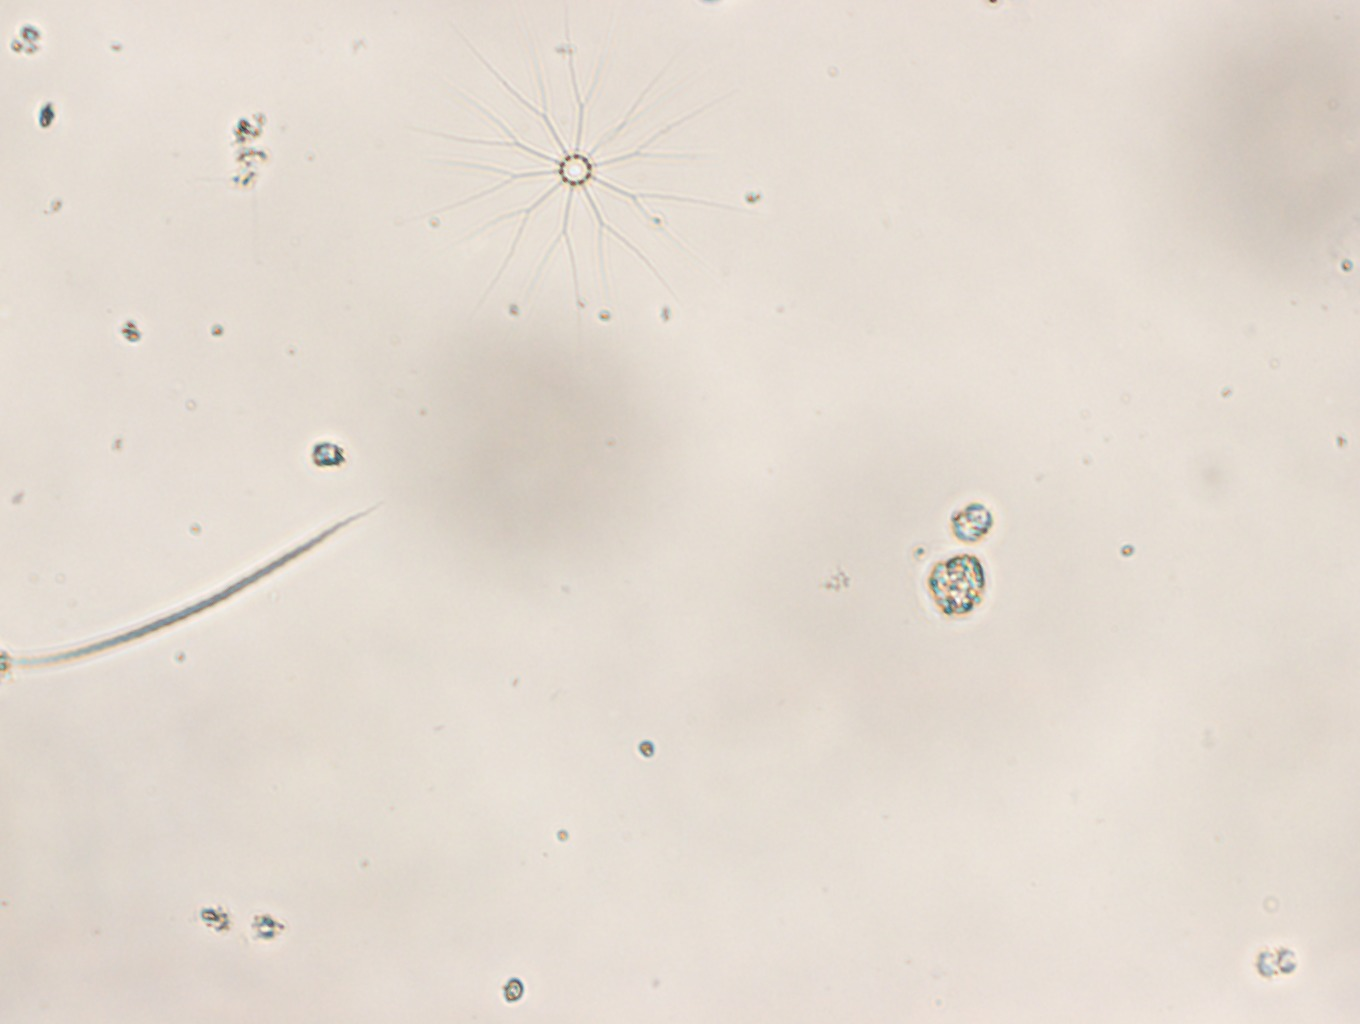bacteriastrum: (416, 15, 745, 308)
